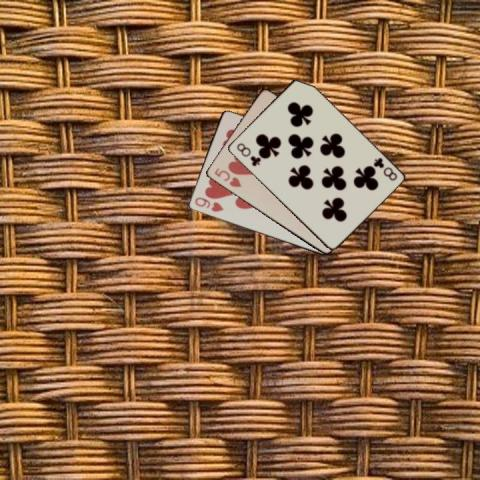5h: (211, 164, 243, 189)
8c: (234, 140, 262, 168), (370, 155, 399, 182)
9h: (191, 194, 225, 213)
